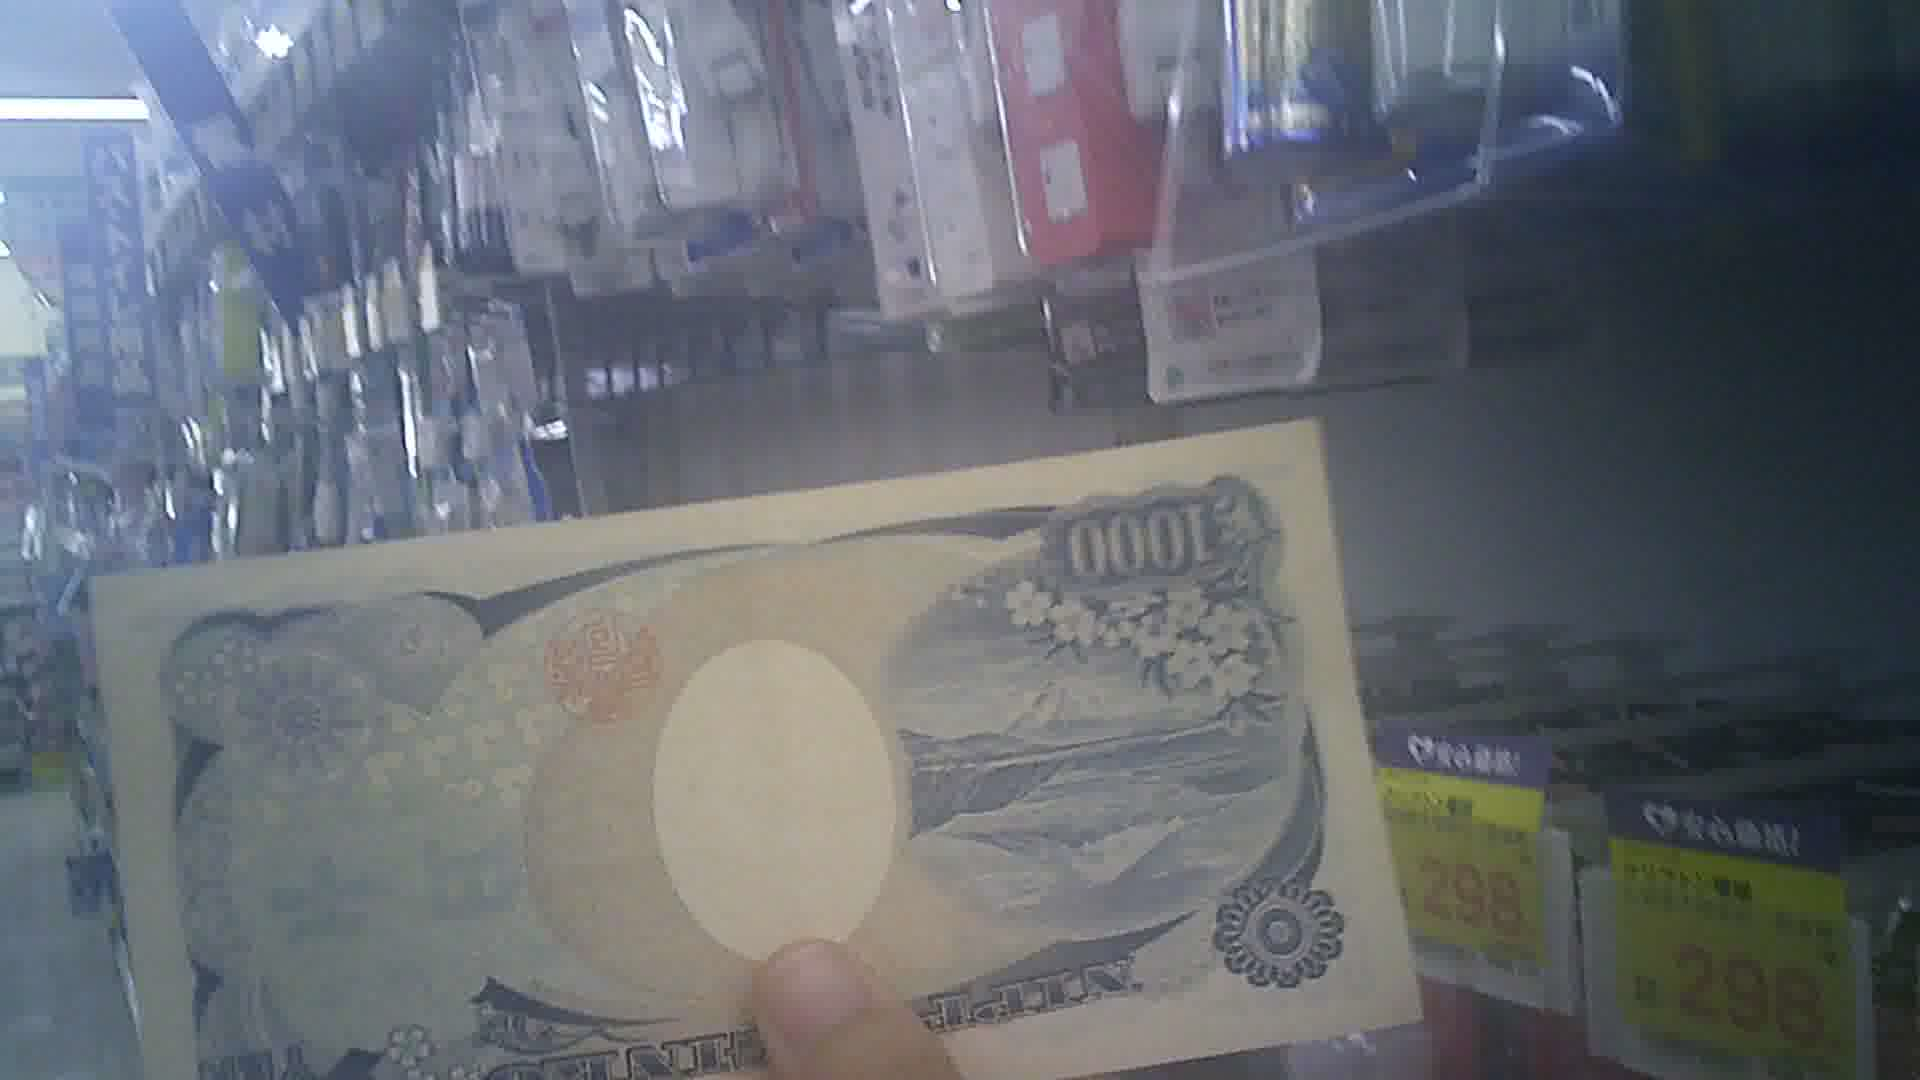1,000 Yen: (94, 429, 1443, 1079)
